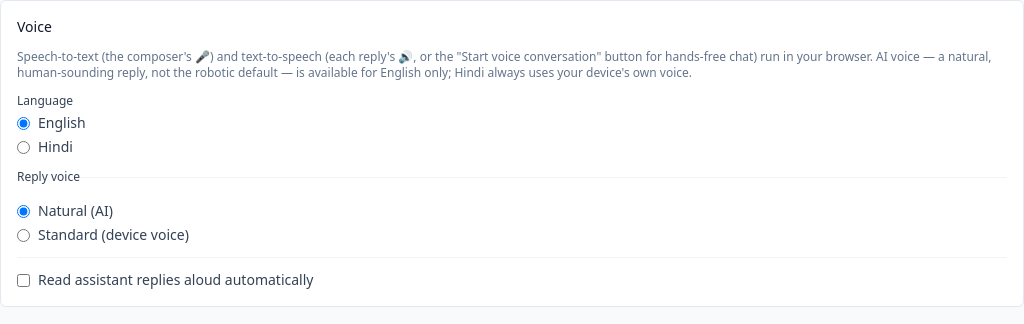
VoiceSettings › disables the AI voice option once Hindi is selected, and switches to the device voice
The width and height of the screenshot is (1024, 324).
Click the radio button labelled "Hindi": (24, 147) [17, 140, 30, 154]
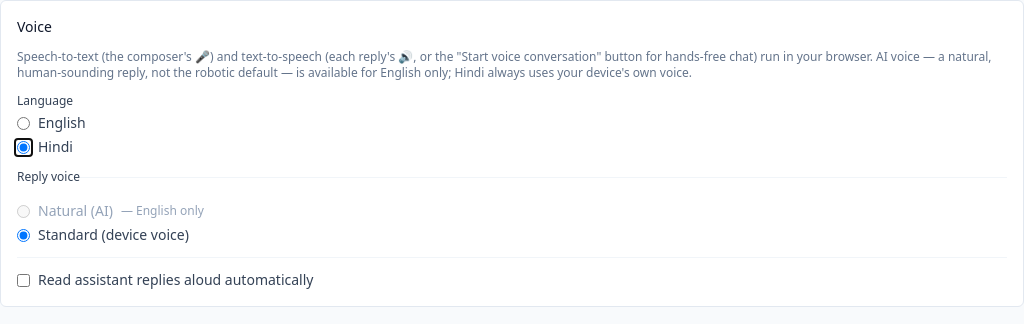
Check: the radio button labelled "Natural (AI) — English only" is disabled, box [17, 204, 30, 218]
Check: the radio button labelled "Standard (device voice)" is checked, box [17, 228, 30, 242]
